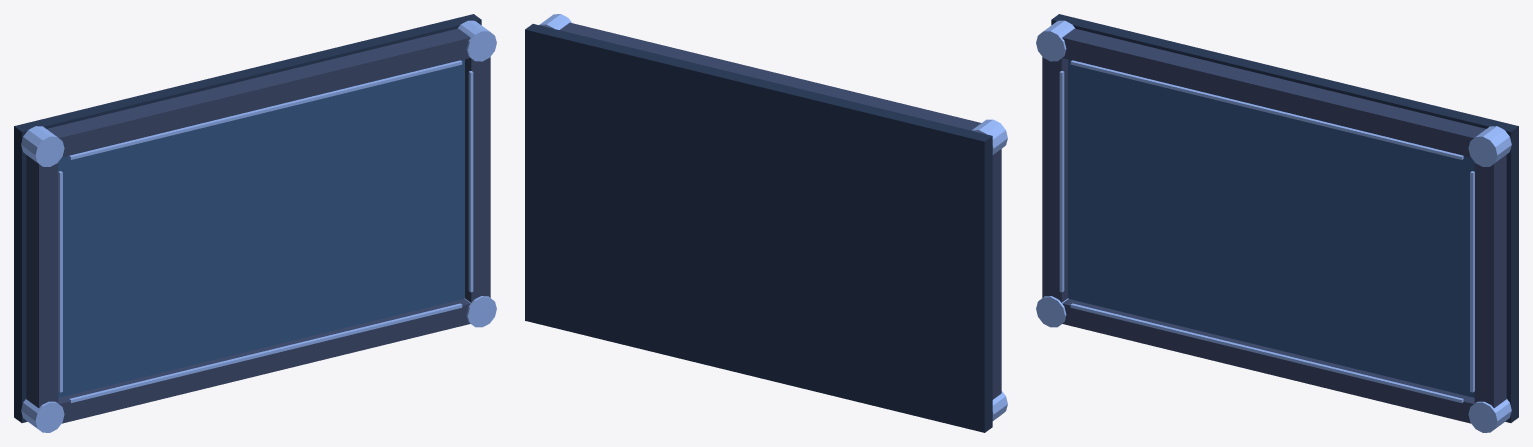
Rendered from table_midnight.glb.
3 renders of one model, left to right at view 1: azimuth 30°, elevation 25°; view 2: azimuth 150°, elevation 25°; view 3: azimuth 330°, elevation 25°, orthographic.
Visible parts, largest first — view 1: felt_surface, frame_top, frame_bottom, table_underbody, frame_left, frame_right, accent_top, accent_bottom, accent_right, corner_-5.36_3.15, accent_left, corner_-5.36_-3.15 (+2 smaller); view 2: table_underbody, frame_top, frame_left, corner_-5.36_3.15; view 3: felt_surface, frame_top, frame_bottom, table_underbody, frame_right, frame_left, accent_top, accent_bottom, accent_left, corner_5.36_3.15, accent_right, corner_5.36_-3.15 (+2 smaller).
Part boxes in pixels (left/top/right/bottom): felt_surface: left=58, top=59, right=464, bottom=397; frame_top: left=47, top=28, right=470, bottom=157; frame_bottom: left=58, top=299, right=470, bottom=423; table_underbody: left=14, top=14, right=481, bottom=422; frame_left: left=26, top=155, right=58, bottom=407; frame_right: left=465, top=57, right=490, bottom=302; accent_top: left=69, top=60, right=462, bottom=159; accent_bottom: left=69, top=303, right=462, bottom=402; accent_right: left=468, top=71, right=473, bottom=292; corner_-5.36_3.15: left=21, top=126, right=64, bottom=166; accent_left: left=58, top=171, right=62, bottom=392; corner_-5.36_-3.15: left=21, top=399, right=64, bottom=432; table_underbody: left=525, top=24, right=992, bottom=432; frame_top: left=559, top=22, right=981, bottom=130; frame_left: left=992, top=149, right=1001, bottom=399; corner_-5.36_3.15: left=971, top=119, right=1007, bottom=154; felt_surface: left=1068, top=59, right=1474, bottom=397; frame_top: left=1062, top=28, right=1485, bottom=157; frame_bottom: left=1062, top=299, right=1474, bottom=423; table_underbody: left=1051, top=14, right=1518, bottom=422; frame_right: left=1474, top=155, right=1506, bottom=407; frame_left: left=1042, top=57, right=1067, bottom=302; accent_top: left=1070, top=60, right=1463, bottom=159; accent_bottom: left=1070, top=303, right=1463, bottom=402; accent_left: left=1059, top=71, right=1064, bottom=292; corner_5.36_3.15: left=1468, top=126, right=1511, bottom=166; accent_right: left=1470, top=171, right=1474, bottom=392; corner_5.36_-3.15: left=1468, top=399, right=1511, bottom=432.
Bounding box in the file's own units: 11.44 × 7.02 × 0.98.
